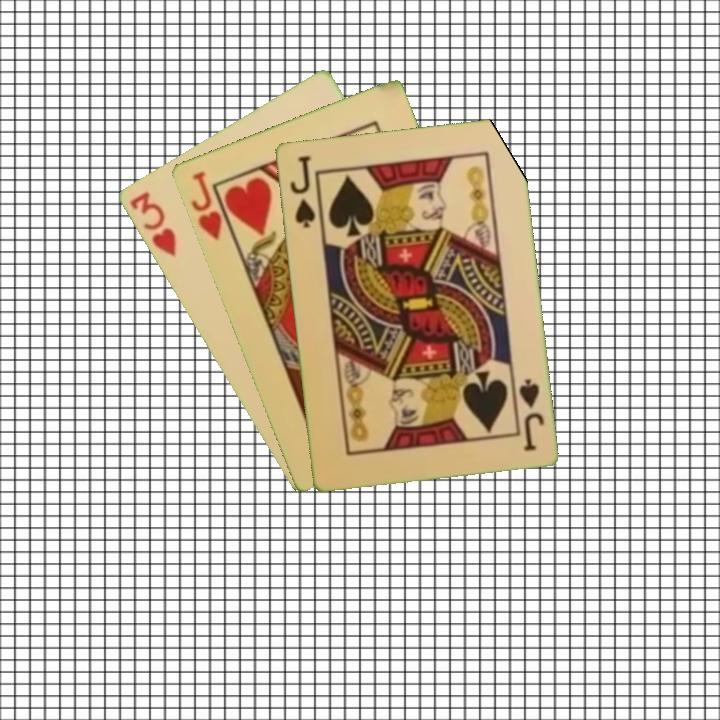3h: (125, 188, 179, 260)
Jh: (187, 167, 236, 243)
Js: (286, 151, 318, 231), (515, 375, 547, 454)
